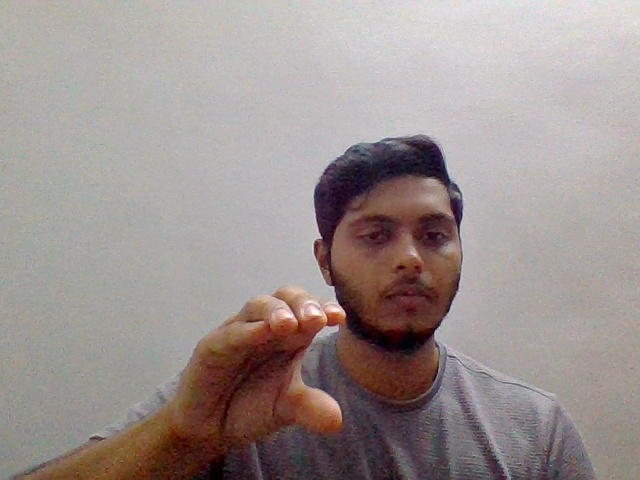No: (168, 280, 353, 474)
